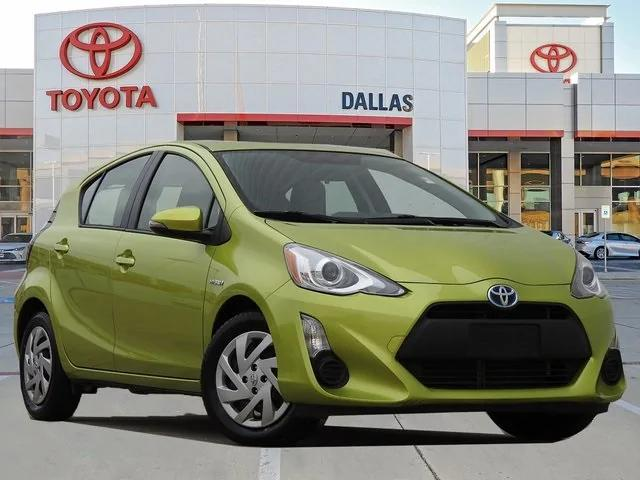Toyota Prius: (10, 137, 631, 451)
